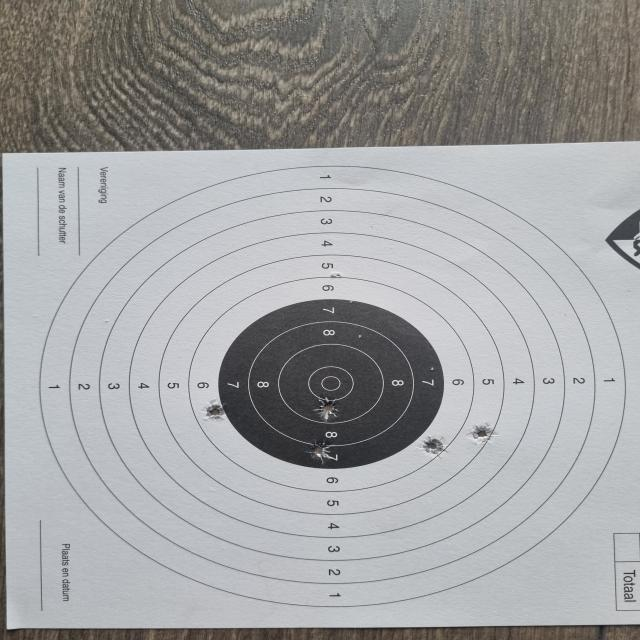10: (316, 398, 338, 420)
5: (469, 426, 497, 445)
6: (422, 437, 450, 457)
7: (203, 401, 227, 422)
8: (306, 442, 333, 460)
Target: (14, 165, 640, 610)
black_contour: (219, 299, 446, 469)
